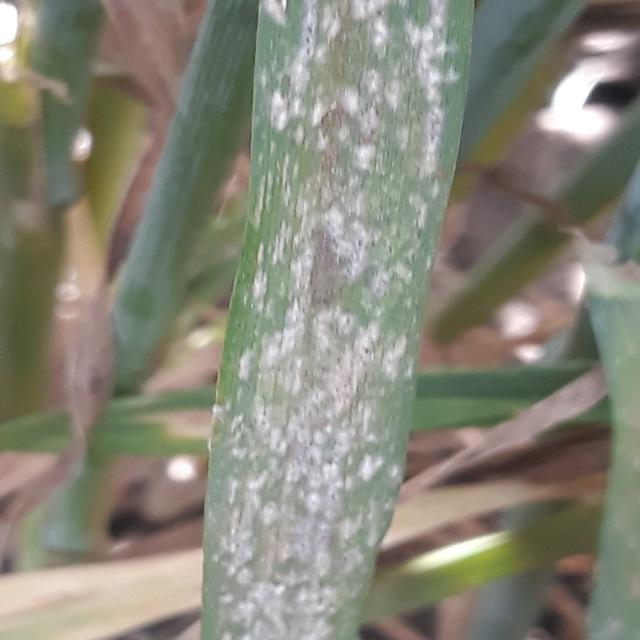powder_mildew: (194, 1, 469, 640)
